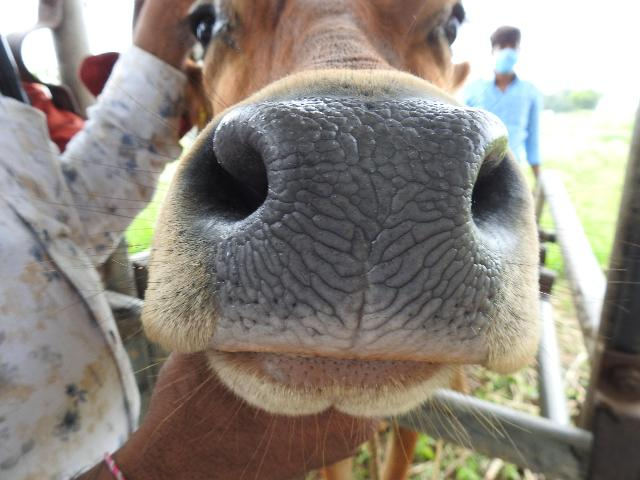Muzzle: (278, 105, 464, 349)
